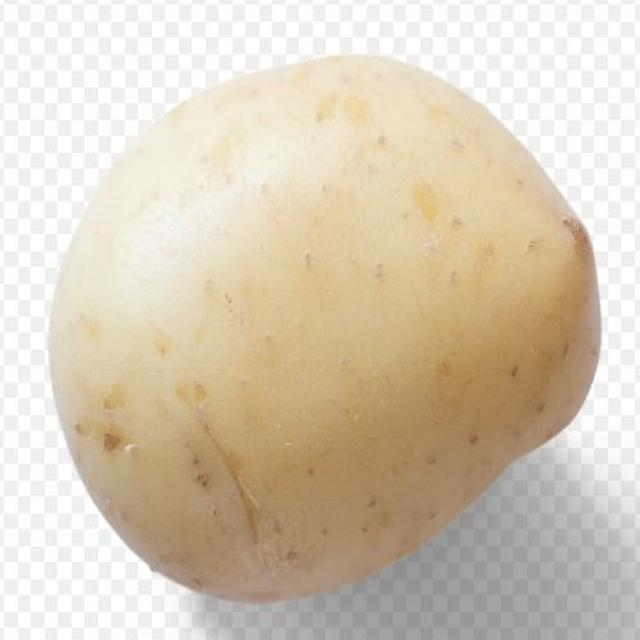potato: (49, 56, 602, 601)
